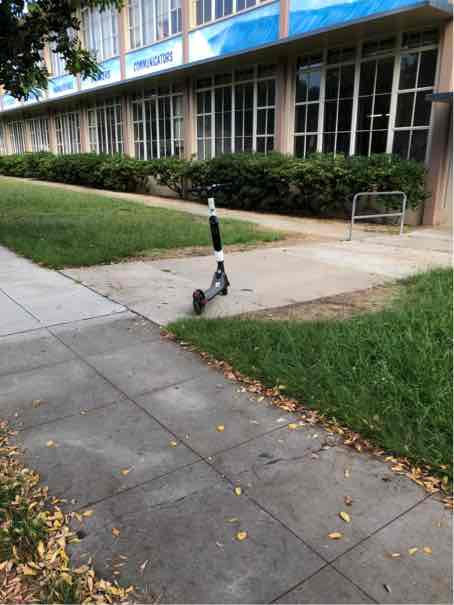scooter: (177, 172, 244, 316)
